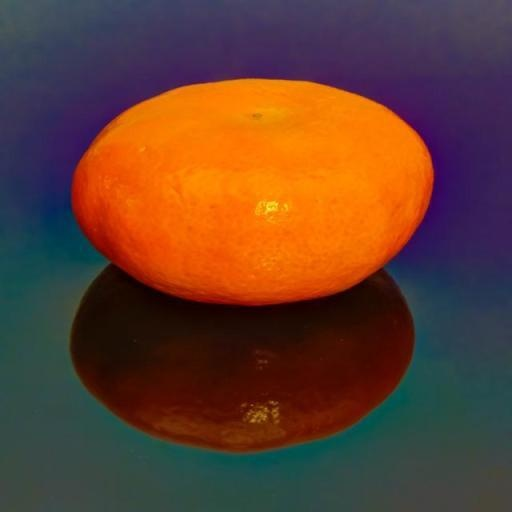fruit: (18, 165, 136, 512), (28, 99, 132, 355)
